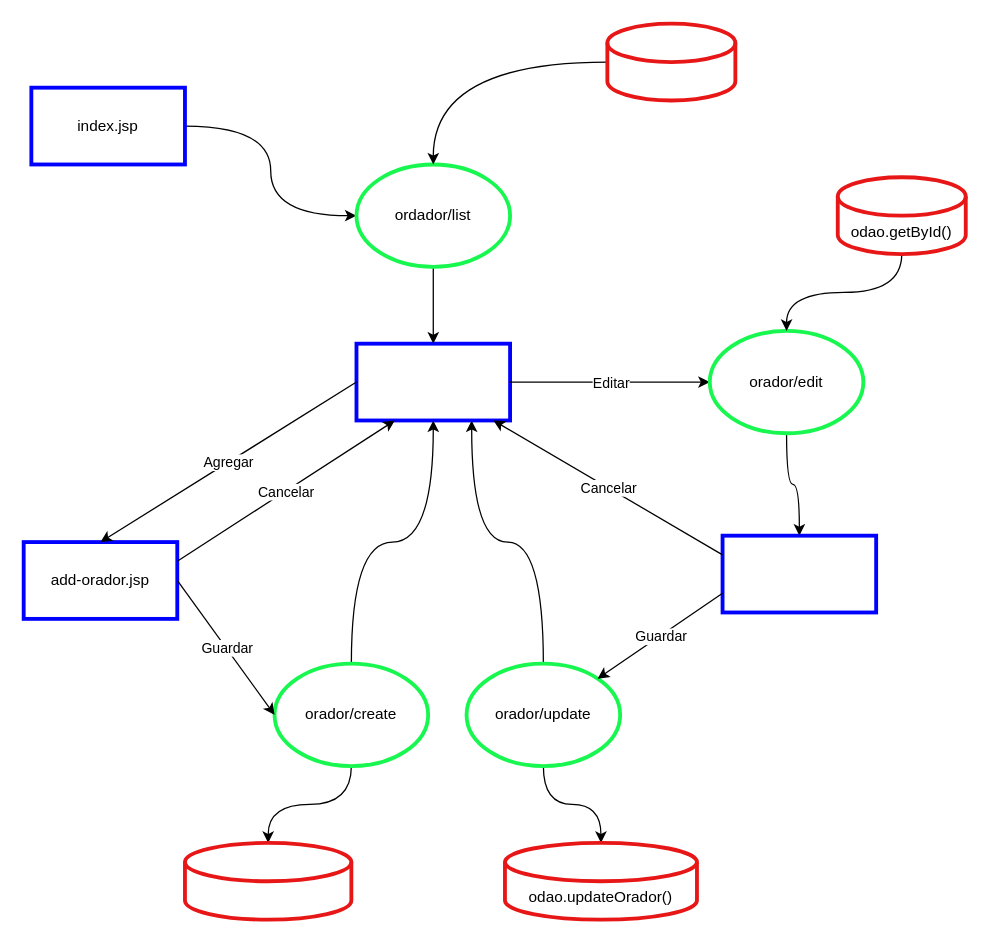
The diagram is 989 pixels wide and 943 high, and some of its shapes have lost their labels. Each missing label, with the box of its shape:
edit-orador.jsp: (720, 533, 877, 614)
list-oradores.jsp: (354, 341, 511, 422)
odao.createOrador(): (182, 840, 353, 921)
odao.getAll(): (605, 21, 737, 102)
